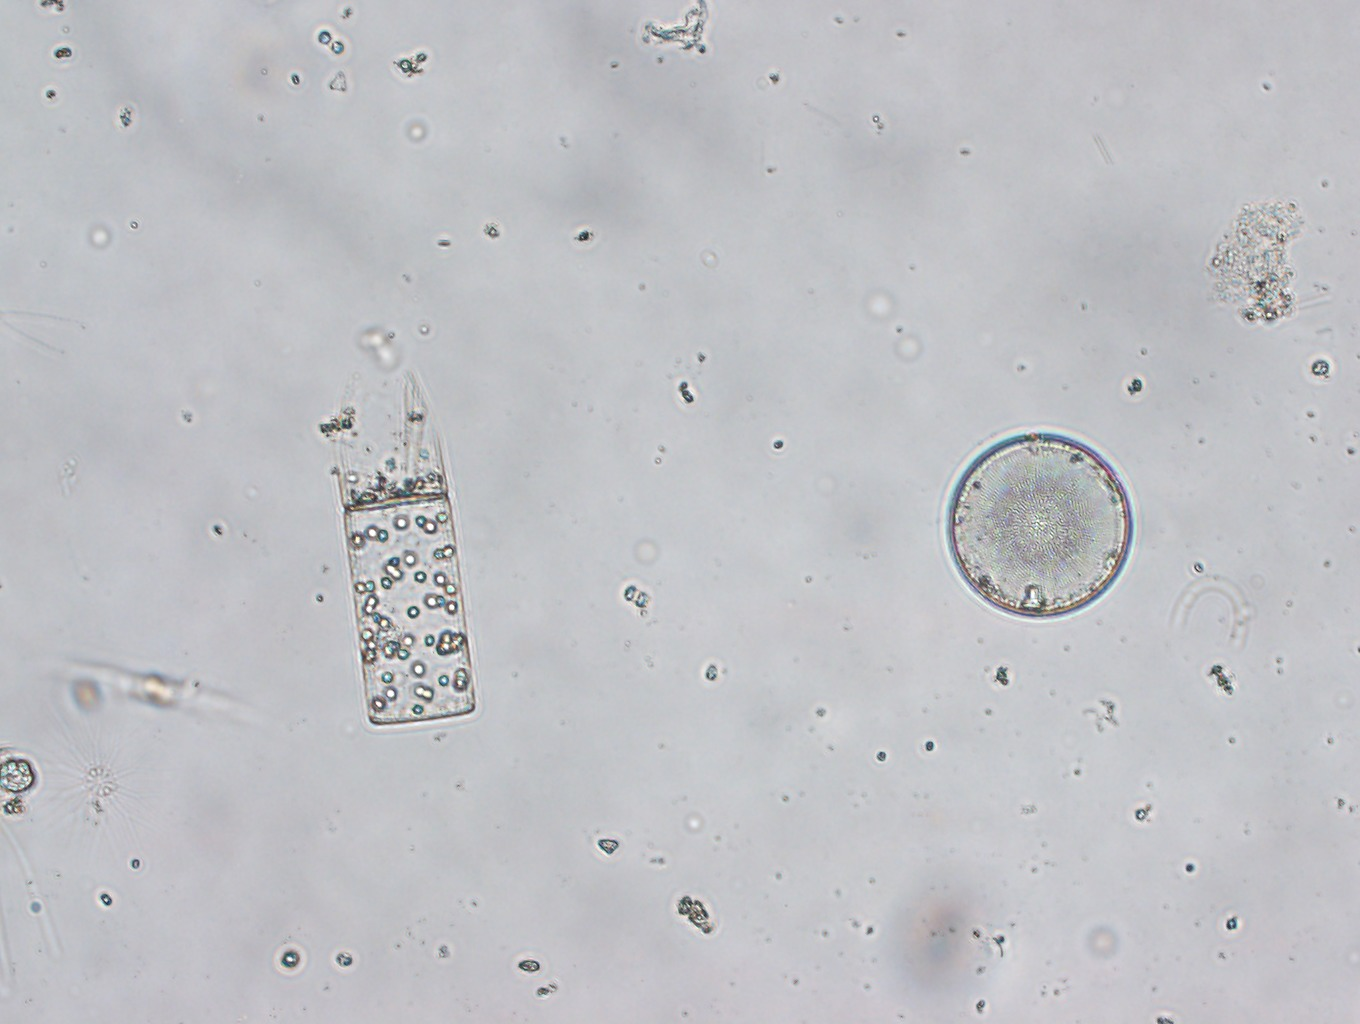coscinodiscus: (948, 433, 1132, 618)
guinardia flaccida: (333, 435, 476, 725)
